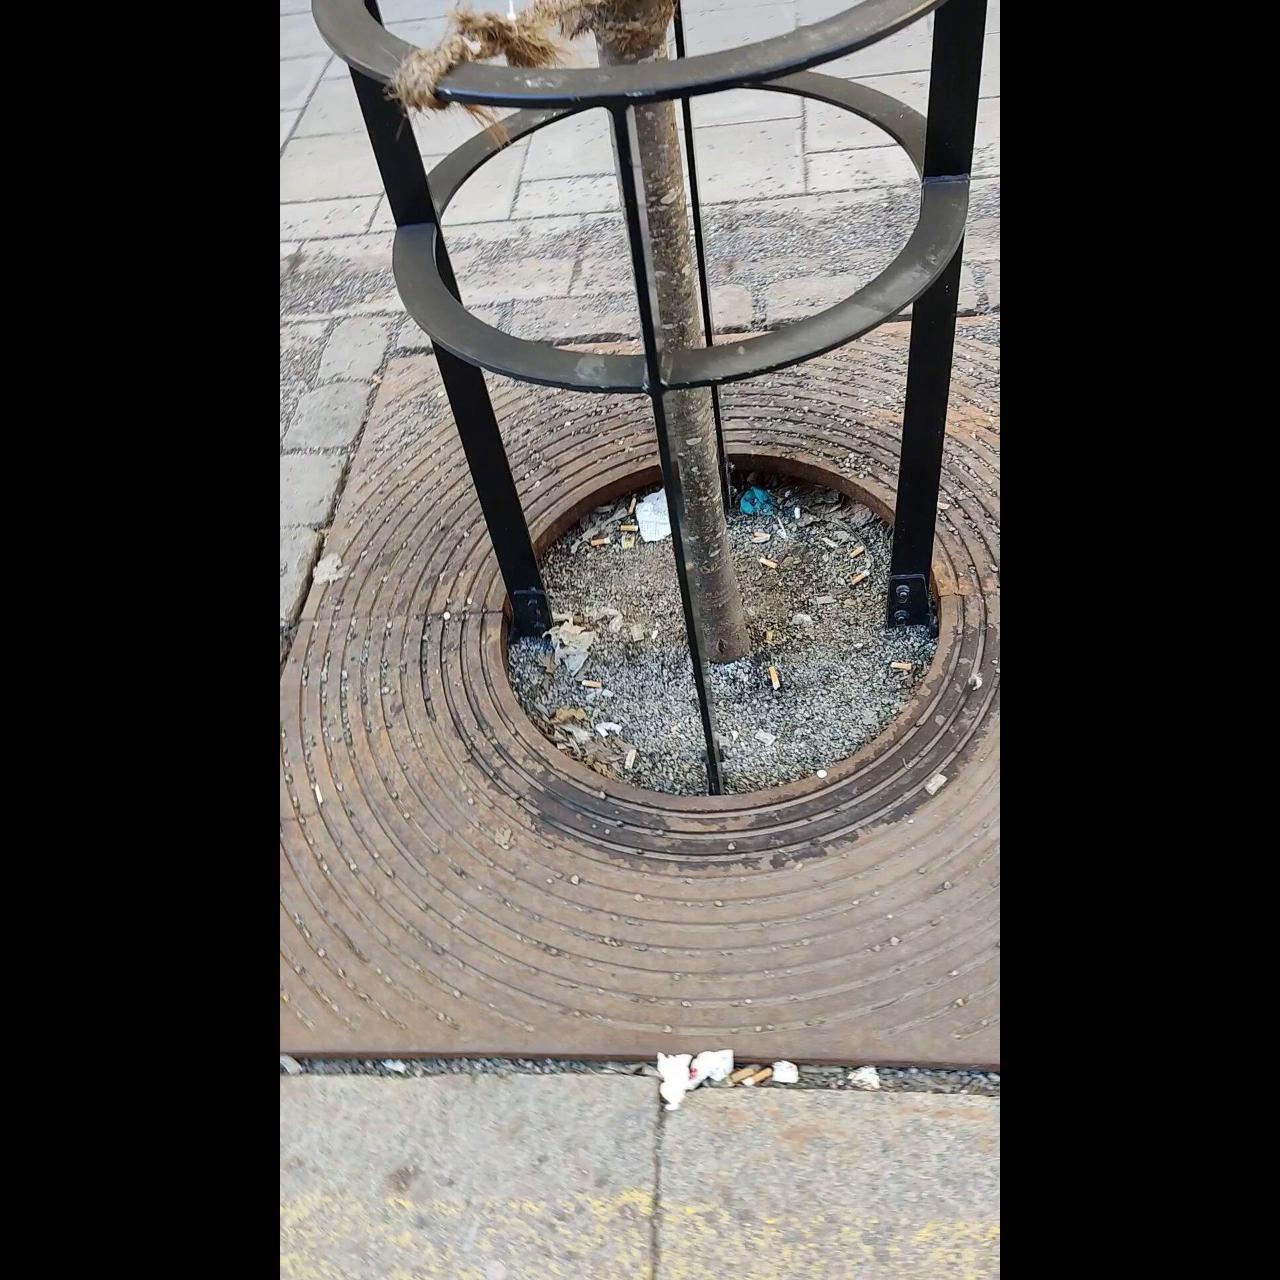cigarettes_butts: (747, 1069, 772, 1083), (726, 1069, 748, 1083), (749, 530, 771, 543), (768, 667, 779, 689), (758, 557, 779, 568), (852, 572, 870, 586), (579, 678, 600, 688), (626, 495, 636, 513), (892, 662, 914, 670), (850, 546, 862, 559), (588, 538, 610, 545), (617, 526, 639, 532)
others: (926, 774, 947, 798), (625, 750, 636, 770)
